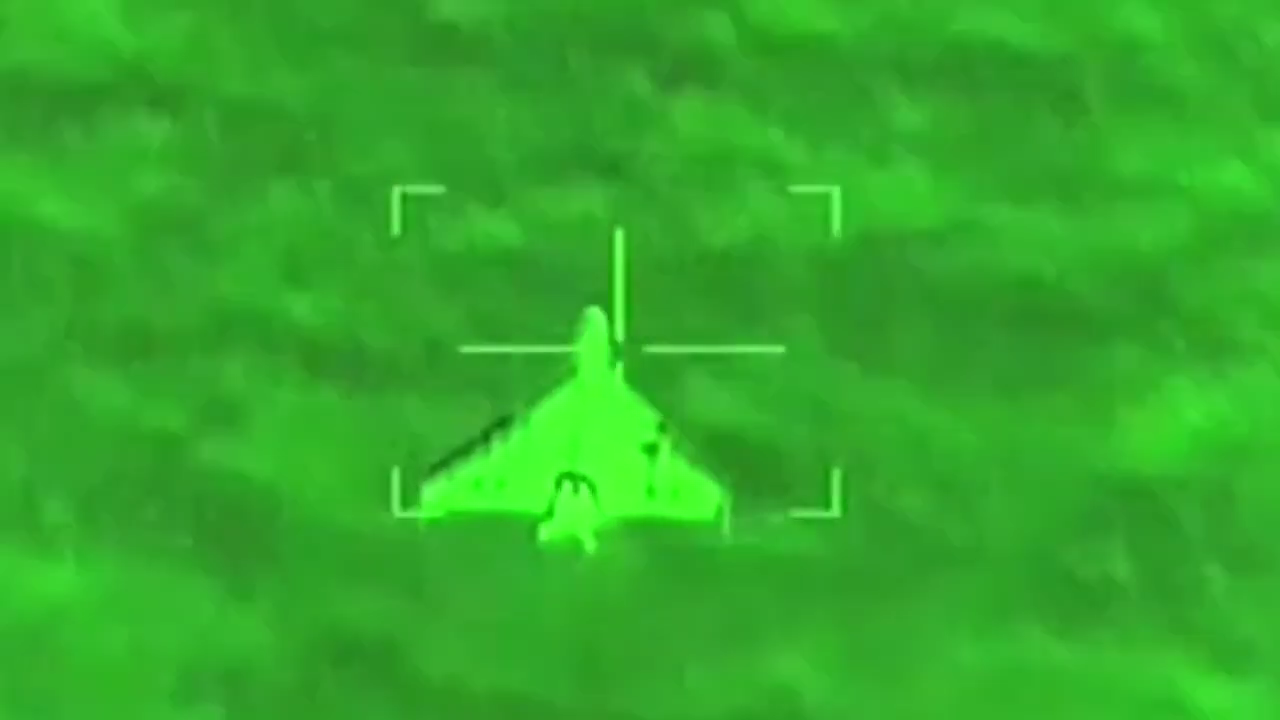shahed: (422, 296, 736, 552)
